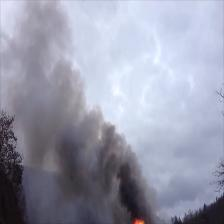fire: (134, 220, 144, 224)
smoke: (25, 83, 73, 159), (78, 138, 114, 190), (119, 168, 142, 207)
